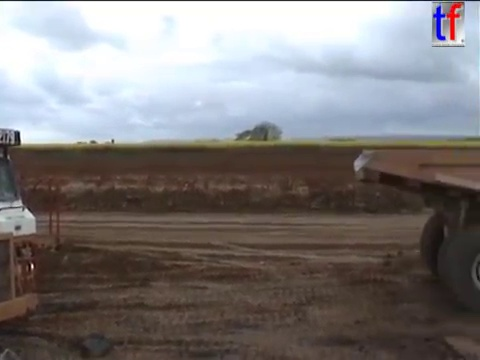truck: (350, 143, 480, 316), (1, 124, 43, 329)
